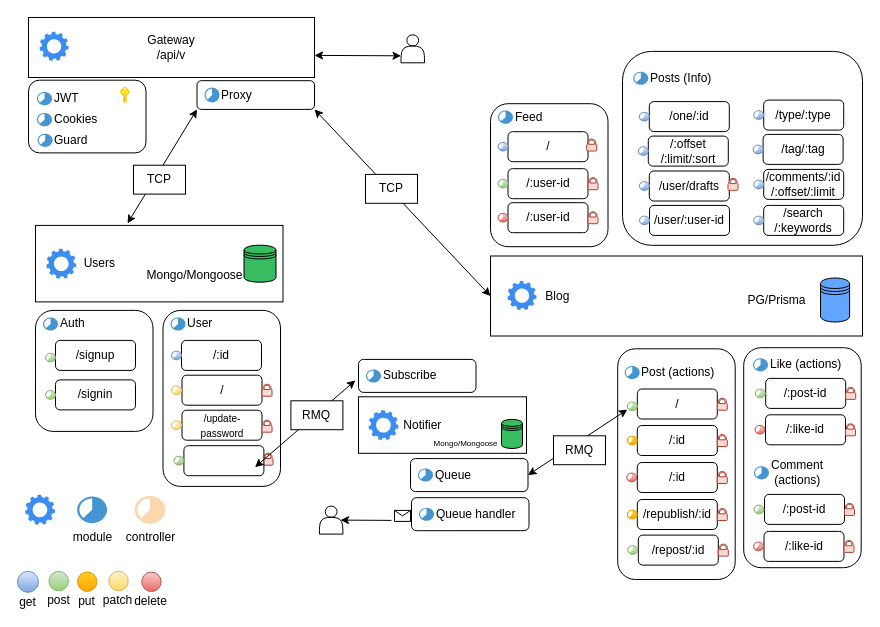
The diagram is 880 pixels wide and 627 high, and some of its shapes have lost their labels. Each missing label, with the centre of its shape:
/subscribe-to-new-posts/: interval: the point at 223,460
micro service: the point at 39,509
